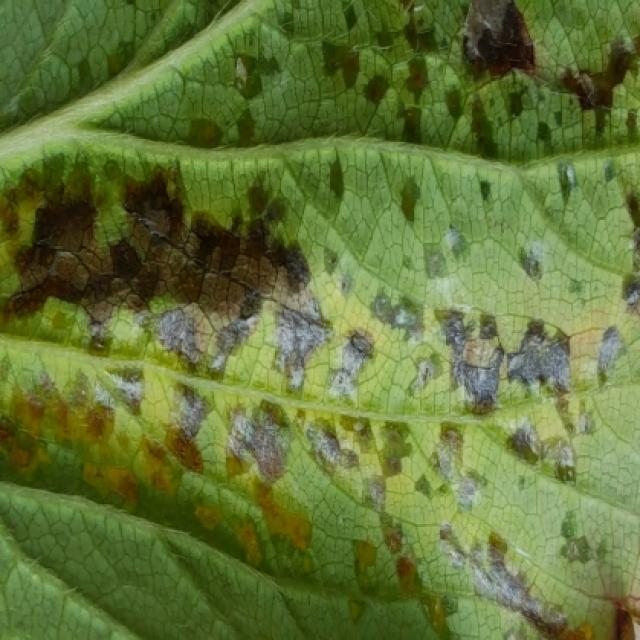Angular Leafspot: (0, 0, 638, 638)
